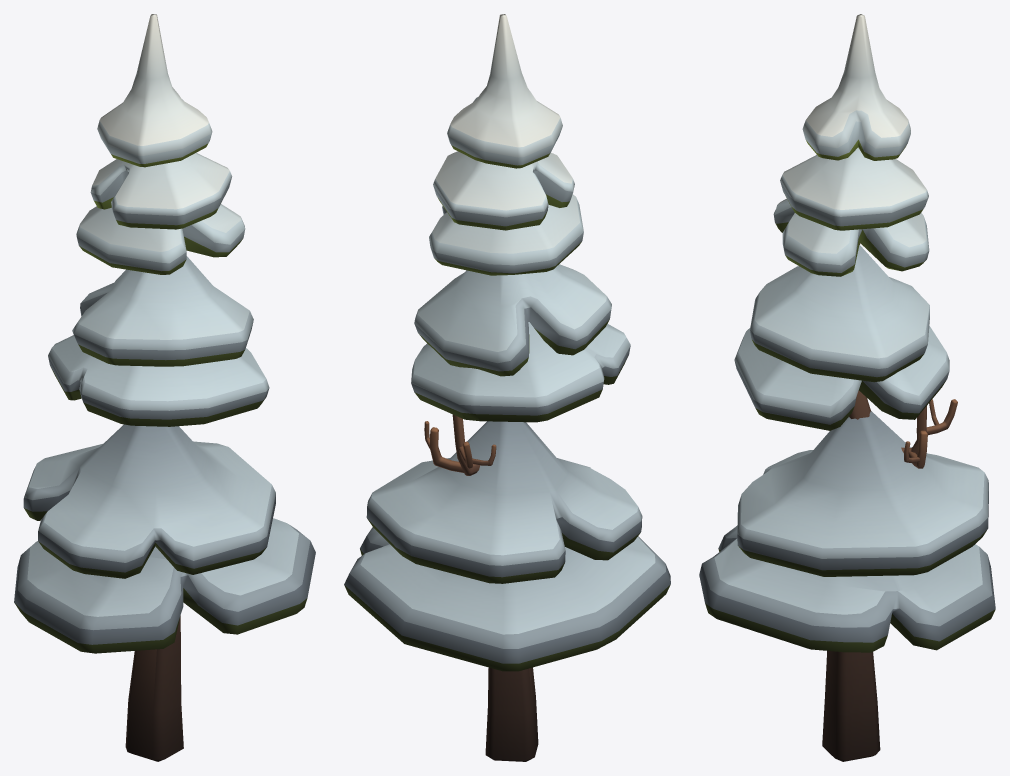
The model's file is pine_tree_col1_01_snow.fbx.
3 views of the same model, side by side, from view 1: azimuth 30°, elevation 25°; view 2: azimuth 150°, elevation 25°; view 3: azimuth 270°, elevation 25° (orthographic).
Parts seen in each view (by area): view 1: pine_tree_col1_01_snow; view 2: pine_tree_col1_01_snow; view 3: pine_tree_col1_01_snow.
Part boxes in pixels (bbox=[...]): pine_tree_col1_01_snow: bbox=[14, 14, 315, 761]; pine_tree_col1_01_snow: bbox=[344, 14, 670, 761]; pine_tree_col1_01_snow: bbox=[699, 14, 995, 761].
Bounding box in the file's own units: 588 × 1578 × 574.
1 material, 1 textured.
